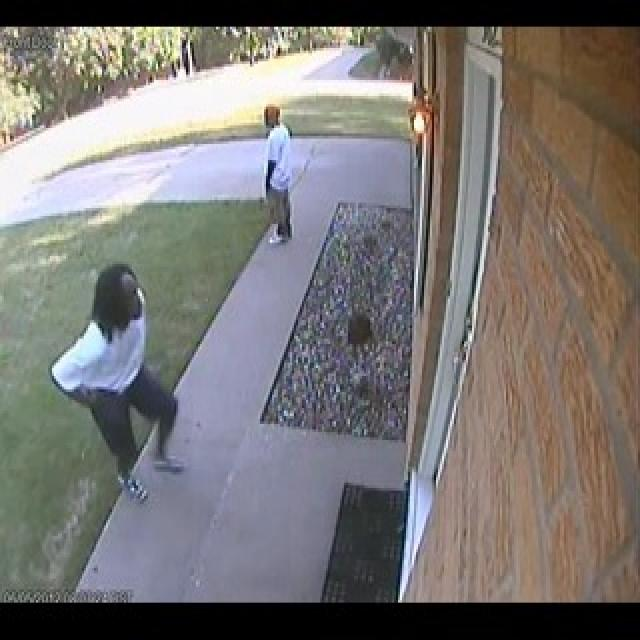thief: (76, 253, 185, 524)
